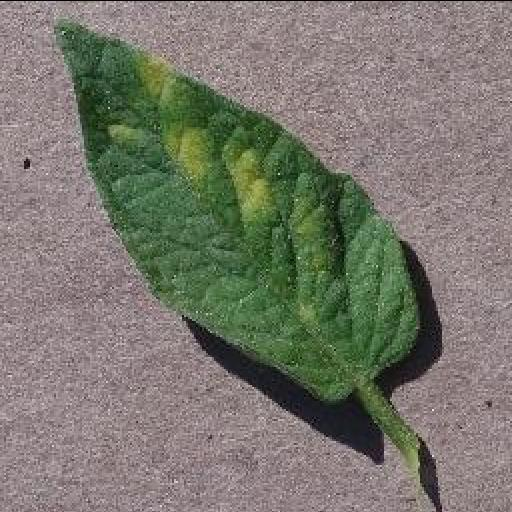disease_tomato: (50, 20, 426, 397)
